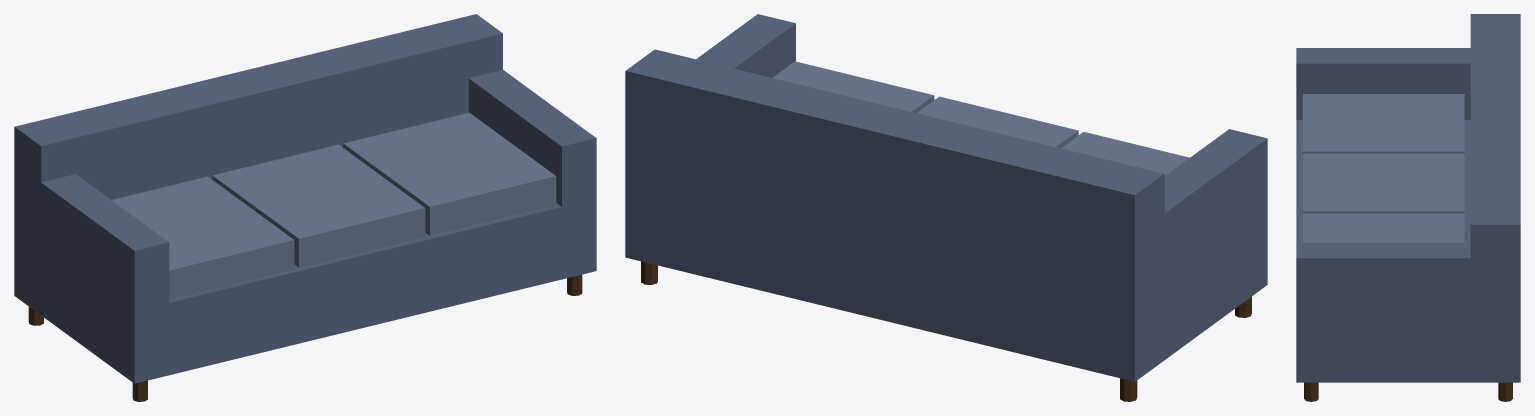
The model's file is couch.glb.
3 views of the same model, side by side, from view 1: azimuth 30°, elevation 25°; view 2: azimuth 150°, elevation 25°; view 3: azimuth 270°, elevation 25° (orthographic). The views are drawn at different scales.
Visible parts, largest first — view 1: couch; view 2: couch; view 3: couch.
Part boxes in pixels (x1,y1,x2,y2): couch: (14,14,596,401); couch: (625,14,1267,401); couch: (1296,14,1520,401).
Bounding box in the file's own units: 2 × 0.8 × 0.9.
